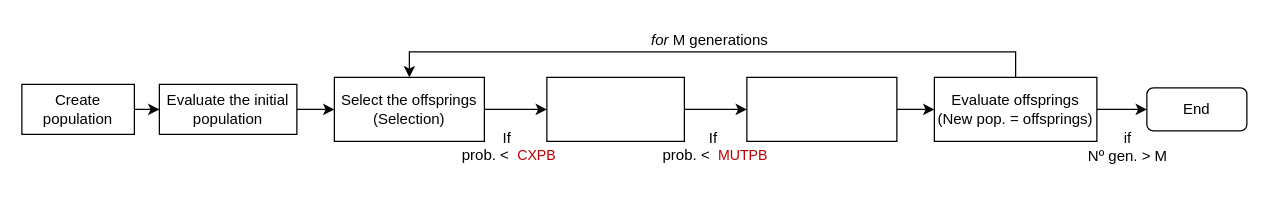
Image size: 1269x205. Some labels were removed from this diagram. The shapes that lost their labels are listed below. From the top down, each one's box as (x1, y1, x2, y2) in pixels, then its label:
(546, 76, 684, 141): Mate offsprings (Crossover)
(746, 76, 897, 141): Mutate offsprings (Mutation)
